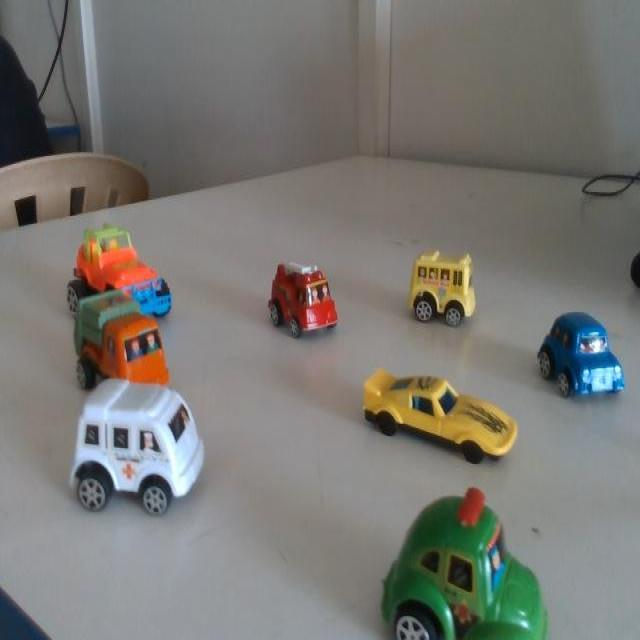car: (77, 354, 228, 542), (407, 502, 554, 638), (377, 357, 505, 475), (98, 218, 181, 324), (401, 242, 488, 342), (263, 246, 339, 356), (97, 282, 162, 398), (554, 314, 624, 406)
